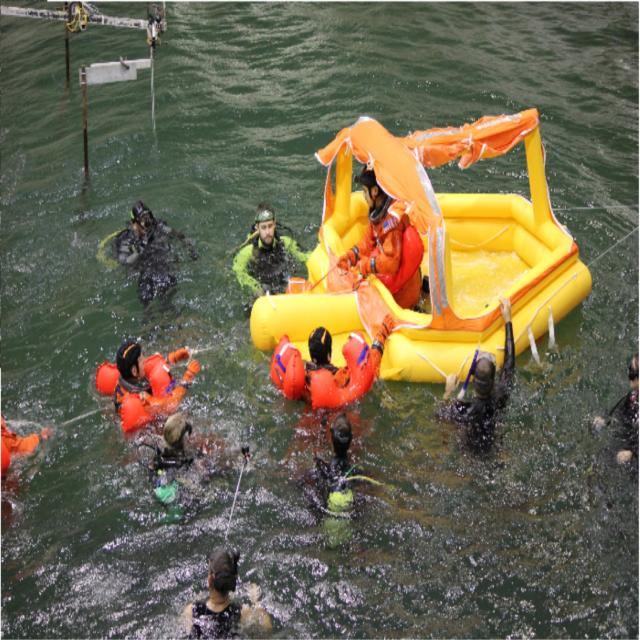Mannequin_wearing_orange-colored_life_preserver_unit_ LPU: (270, 328, 374, 411), (95, 351, 171, 434), (368, 224, 425, 297)
Multi-person_life_raft: (249, 108, 592, 380)
